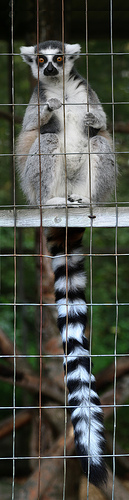cat: (16, 37, 121, 468)
